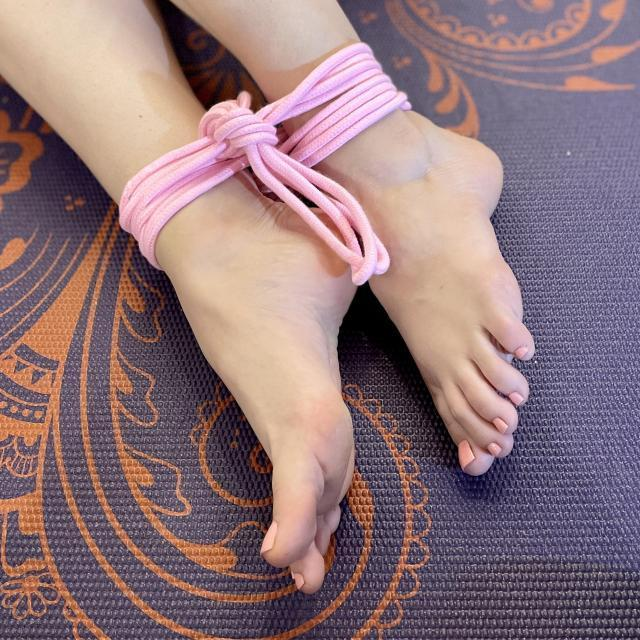Barefoots: (147, 186, 377, 604), (363, 128, 541, 486)
